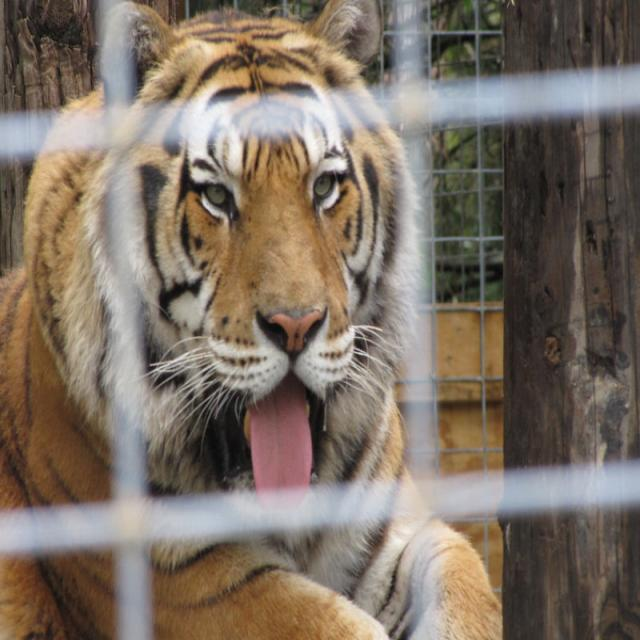Tiger: (0, 0, 498, 638)
